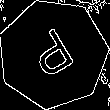P_SE: (24, 22, 82, 85)
